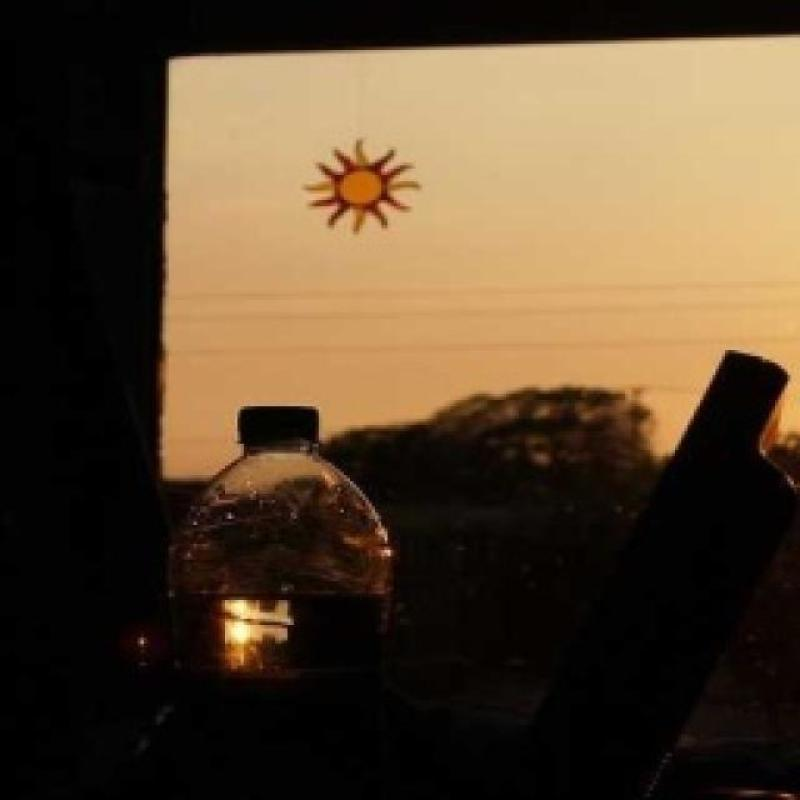botella: (165, 409, 394, 597)
